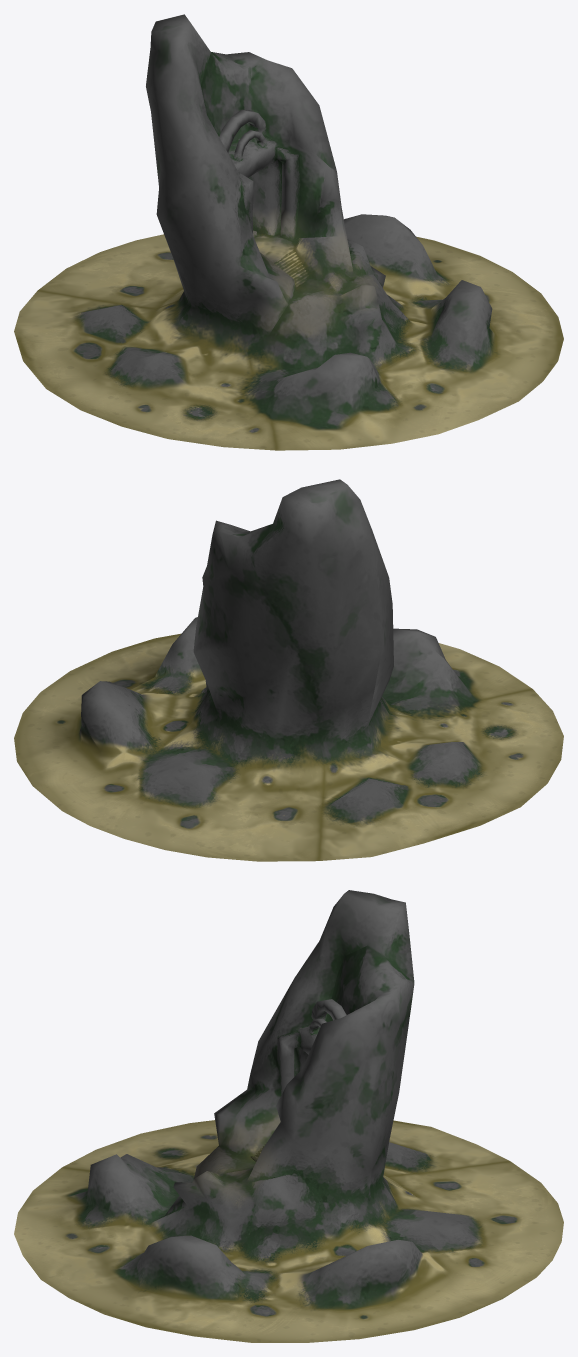
The picture shows the model from 3 angles, top to bottom: view 1: azimuth 30°, elevation 25°; view 2: azimuth 150°, elevation 25°; view 3: azimuth 270°, elevation 25°; orthographic projection.
Parts seen in each view (by area): view 1: Base; view 2: Base; view 3: Base.
Part boxes in pixels (bbox=[...]): Base: bbox=[14, 14, 563, 450]; Base: bbox=[14, 479, 563, 861]; Base: bbox=[14, 890, 563, 1342].
Size of the model in its own units: 17.88 by 10.87 by 18.18.
1 material, 1 textured.
